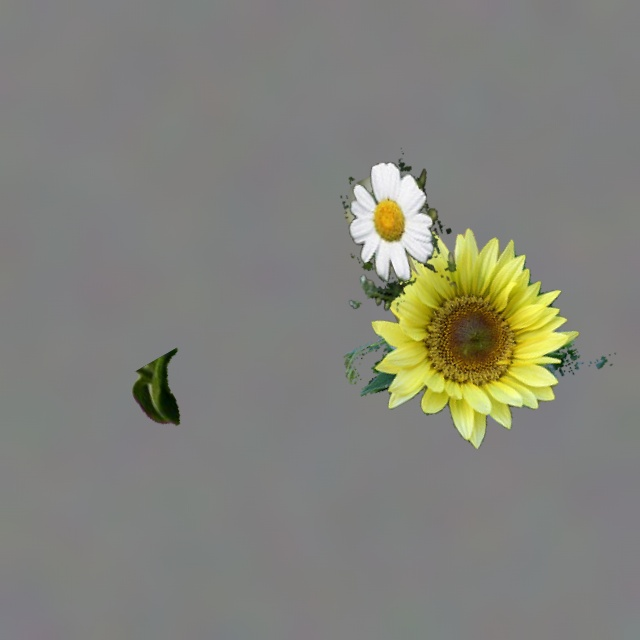daisy: (341, 153, 457, 311)
foxglove: (131, 348, 179, 425)
petunia: (344, 174, 463, 405)
sunflower: (344, 229, 611, 448)
